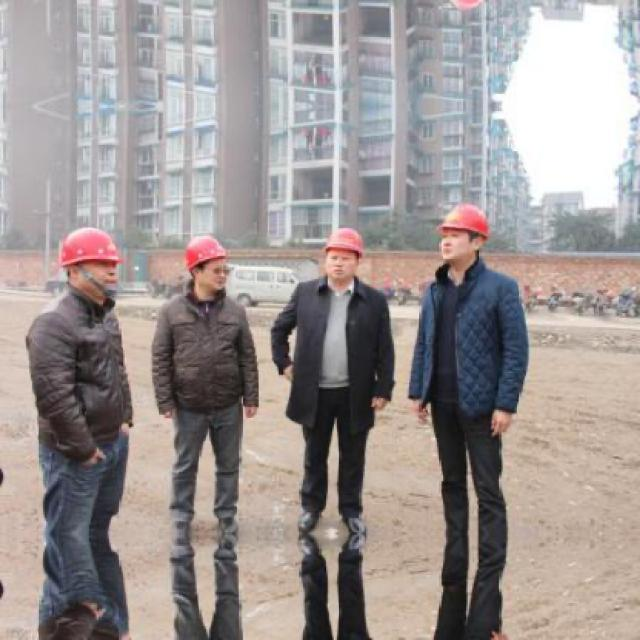helmet: (51, 226, 126, 306), (436, 198, 496, 268), (180, 232, 235, 300), (320, 225, 368, 285), (435, 0, 497, 17)
